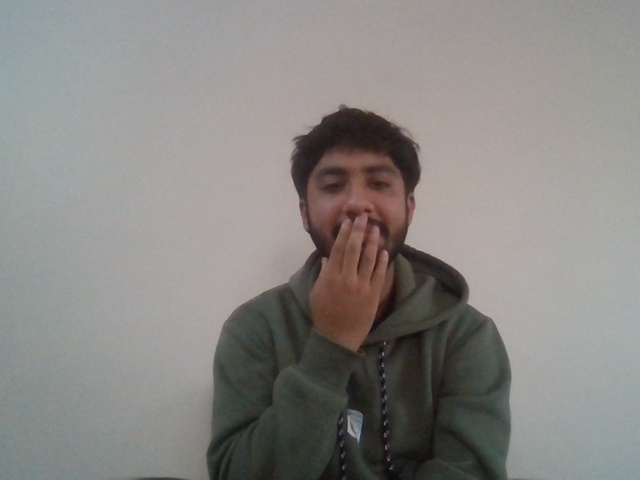Thanks: (304, 210, 404, 339)
